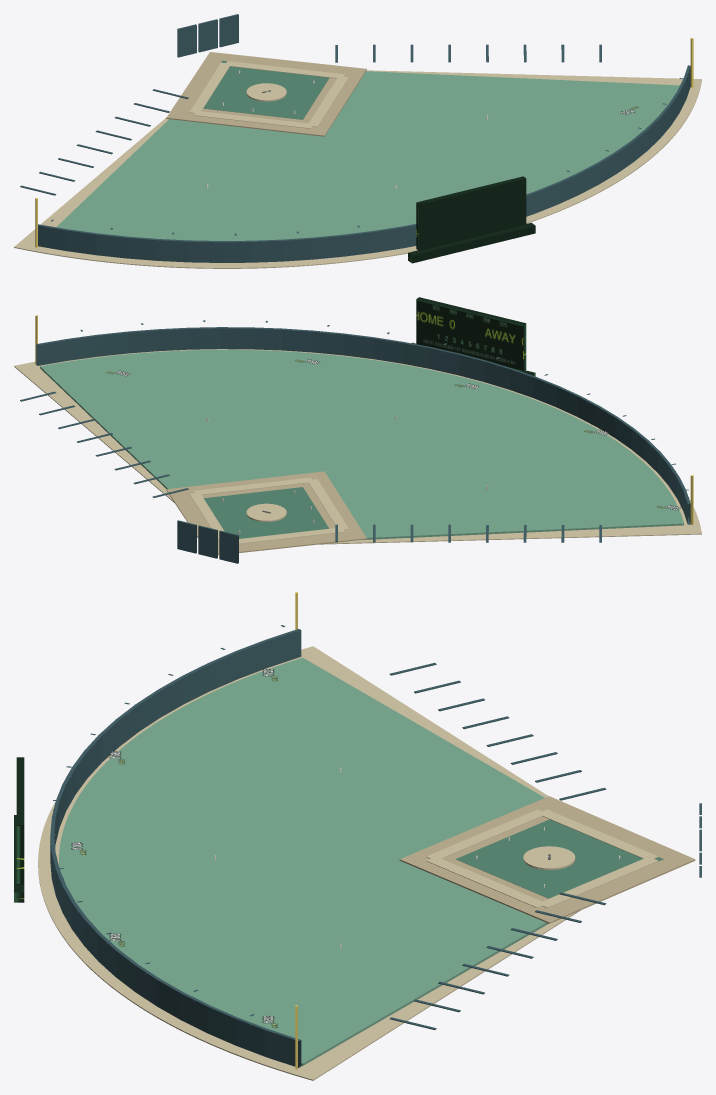
Rendered from baseball_stadium.glb.
3 views of the same model, one above another, from view 1: azimuth 30°, elevation 25°; view 2: azimuth 150°, elevation 25°; view 3: azimuth 270°, elevation 25° (orthographic). The views are drawn at different scales.
Parts seen in each view (by area): view 1: Baseball stadium, Scoreboard; view 2: Baseball stadium, Scoreboard; view 3: Baseball stadium, Scoreboard.
Boxes of the visible parts, x1,y1,x2,y2 form: Baseball stadium: (14,14,701,268); Scoreboard: (408,176,535,263); Baseball stadium: (14,315,701,563); Scoreboard: (412,297,535,376); Baseball stadium: (38,592,701,1080); Scoreboard: (14,757,24,902).
Bounding box in the file's own units: 295 × 23.1 × 198.
10 materials, 2 textured.
